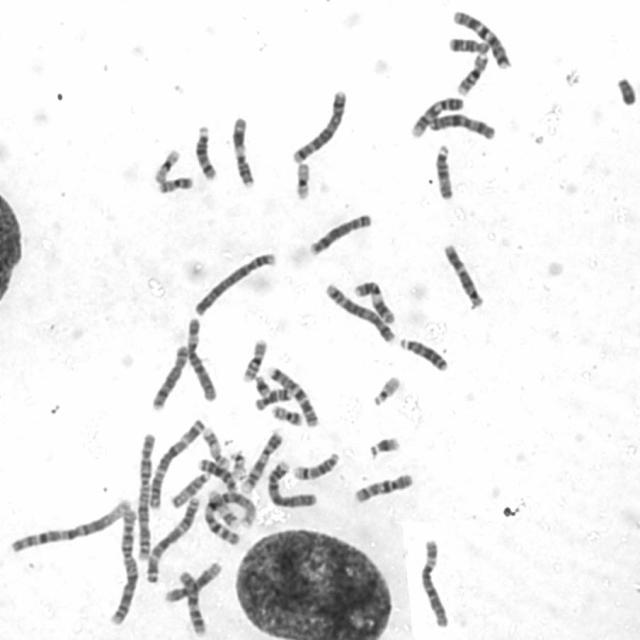A1: (6, 494, 135, 555), (201, 488, 260, 546)
A2: (106, 500, 140, 627), (133, 429, 158, 561)
A3: (145, 415, 208, 509), (143, 492, 200, 584)
B4: (190, 248, 278, 318), (264, 458, 319, 509)
B5: (322, 279, 397, 344), (290, 86, 349, 165)
C10: (351, 470, 415, 505), (176, 566, 208, 636)
C11: (352, 277, 396, 327), (229, 113, 257, 190)
C12: (441, 240, 484, 310), (161, 558, 223, 604)
C6: (418, 535, 452, 629), (183, 338, 219, 403)
C7: (450, 8, 512, 70), (265, 363, 320, 428)
C8: (306, 210, 374, 257), (148, 343, 190, 411)
C9: (239, 428, 284, 496), (408, 92, 465, 138)
D13: (398, 336, 449, 372), (196, 455, 238, 492)
D14: (289, 449, 341, 481), (192, 122, 219, 182)
D15: (168, 470, 212, 510), (433, 142, 455, 202)
E16: (454, 51, 490, 96), (240, 336, 268, 383)
E17: (207, 489, 240, 530), (200, 425, 229, 468)
E18: (251, 384, 294, 412), (445, 35, 491, 55)
F19: (150, 146, 182, 184), (292, 158, 314, 200)
F20: (270, 402, 306, 428), (155, 173, 196, 194)
G21: (365, 433, 402, 460), (252, 372, 272, 398)
G22: (369, 371, 403, 408), (227, 448, 248, 480)
X: (161, 558, 223, 604), (426, 110, 497, 140)
Y: (614, 74, 637, 107)
